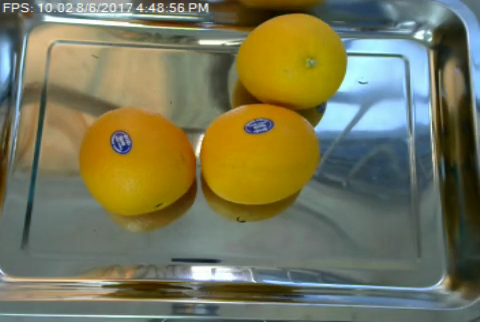Orange: (77, 106, 196, 215), (199, 104, 322, 205), (236, 11, 347, 110)
